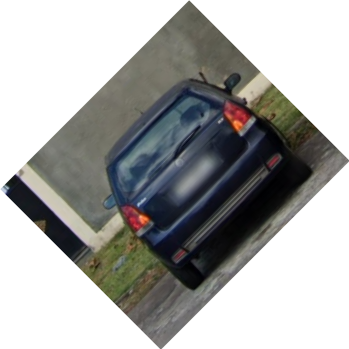car: (102, 73, 314, 291)
